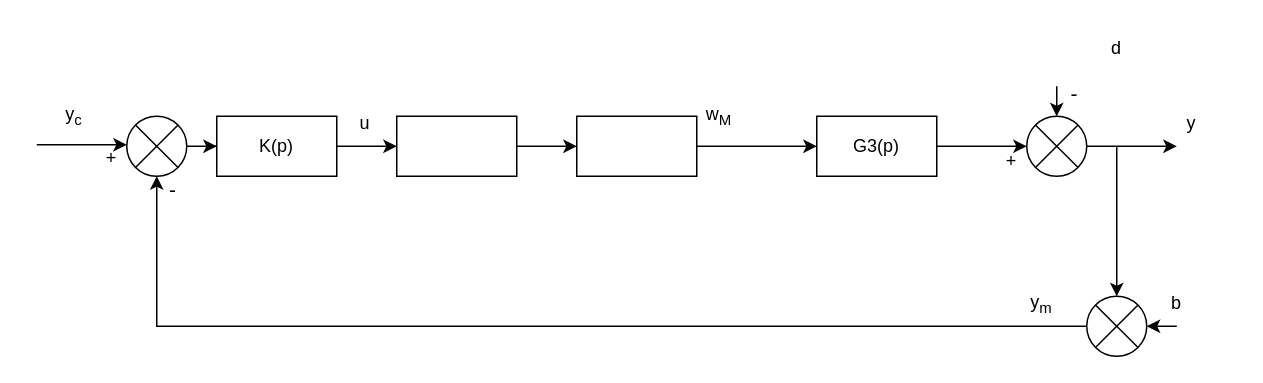
Image size: 1263x383. Some labels were removed from this diagram. The shapes that lost their labels are listed below. From the top down, each one's centre as x and y in pixels, then its label:
At point (456, 145): "G1(p)".
At point (636, 145): "G2(p)".
